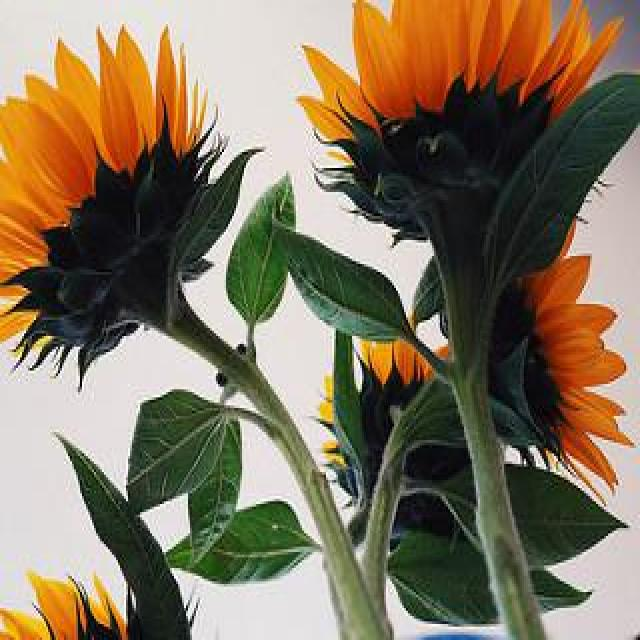sunflower: (0, 25, 270, 353), (300, 0, 640, 148), (522, 224, 634, 507), (310, 317, 460, 462), (3, 564, 126, 640)
